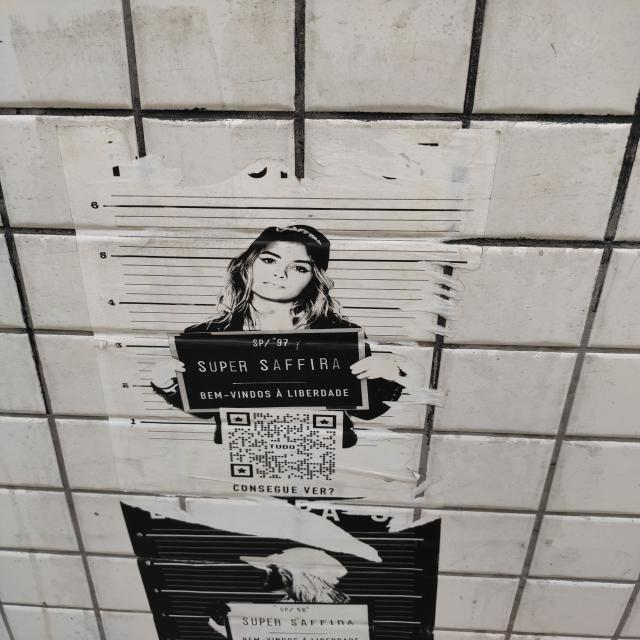qr_code: (226, 412, 336, 481)
